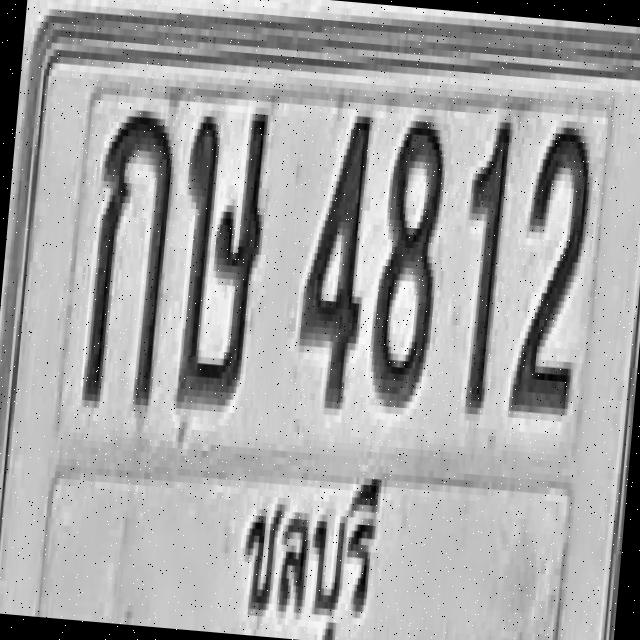1: (452, 110, 514, 412)
10GorGai: (81, 97, 179, 409)
2: (508, 115, 594, 412)
4: (293, 102, 377, 406)
48SorRueSi: (168, 98, 274, 410)
8: (366, 109, 450, 406)
Chonburi: (229, 447, 388, 640)
